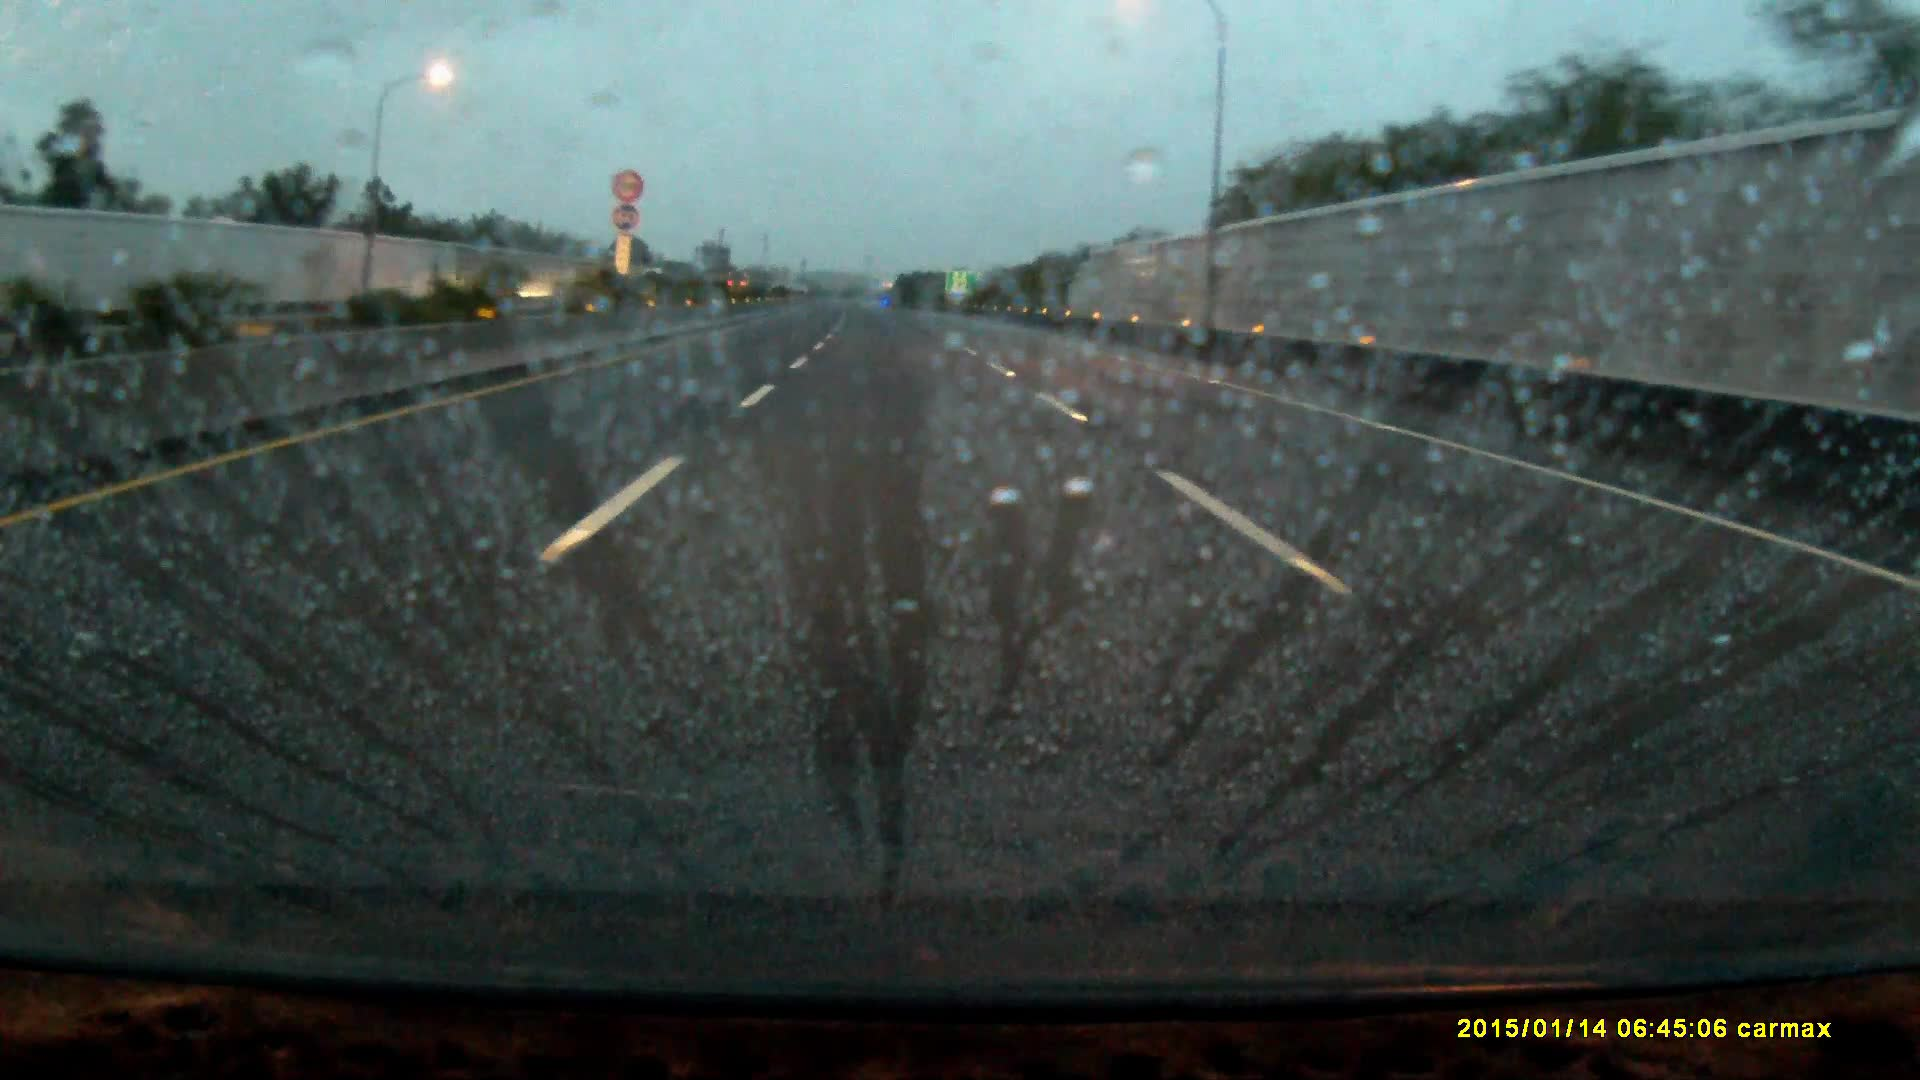vehicle: (727, 277, 754, 303)
